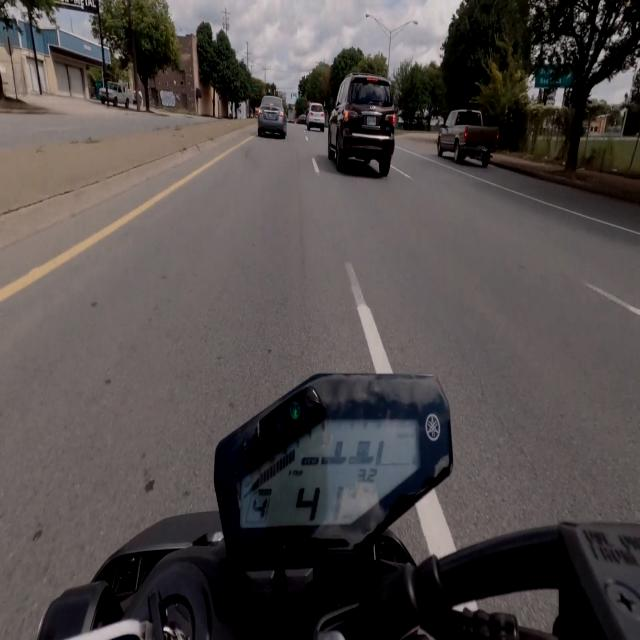car: (328, 73, 396, 176), (432, 104, 501, 166), (258, 96, 287, 138), (307, 103, 325, 132)
motorcycle: (38, 375, 639, 639)
